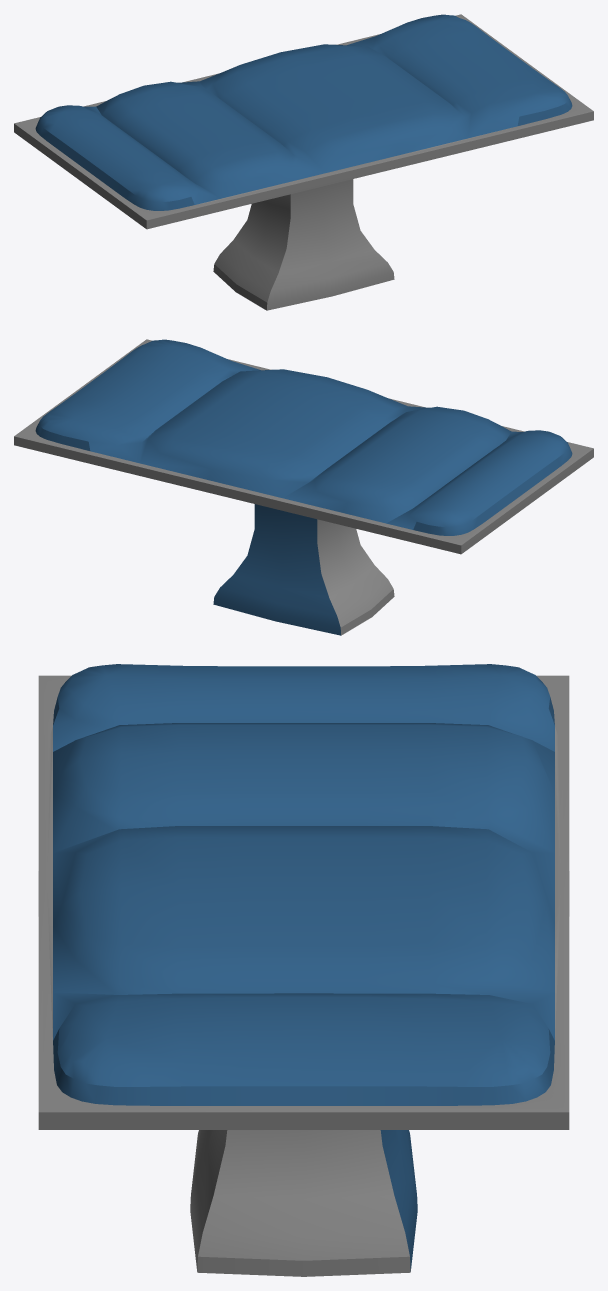
Rendered from bed.fbx.
3 views of the same model, one above another, from view 1: azimuth 30°, elevation 25°; view 2: azimuth 150°, elevation 25°; view 3: azimuth 270°, elevation 25° (orthographic). The views are drawn at different scales.
Parts seen in each view (by area): view 1: Bed; view 2: Bed; view 3: Bed.
Boxes of the visible parts, bbox=[...] form: Bed: bbox=[14, 14, 593, 310]; Bed: bbox=[14, 339, 593, 635]; Bed: bbox=[38, 664, 569, 1276].
Size of the model in its own units: 257 by 97.53 by 132.
